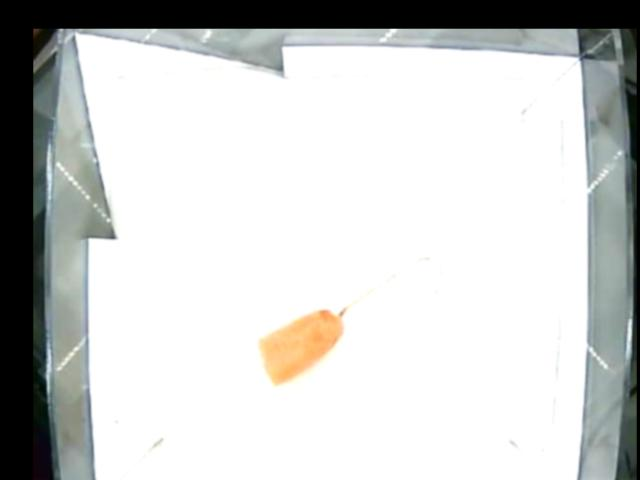Carrot: (255, 304, 348, 387)
